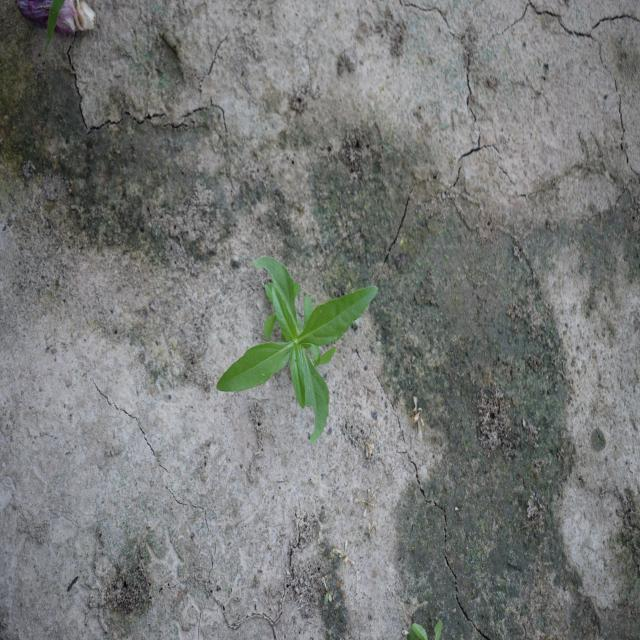Eclipta: (214, 256, 380, 446)
